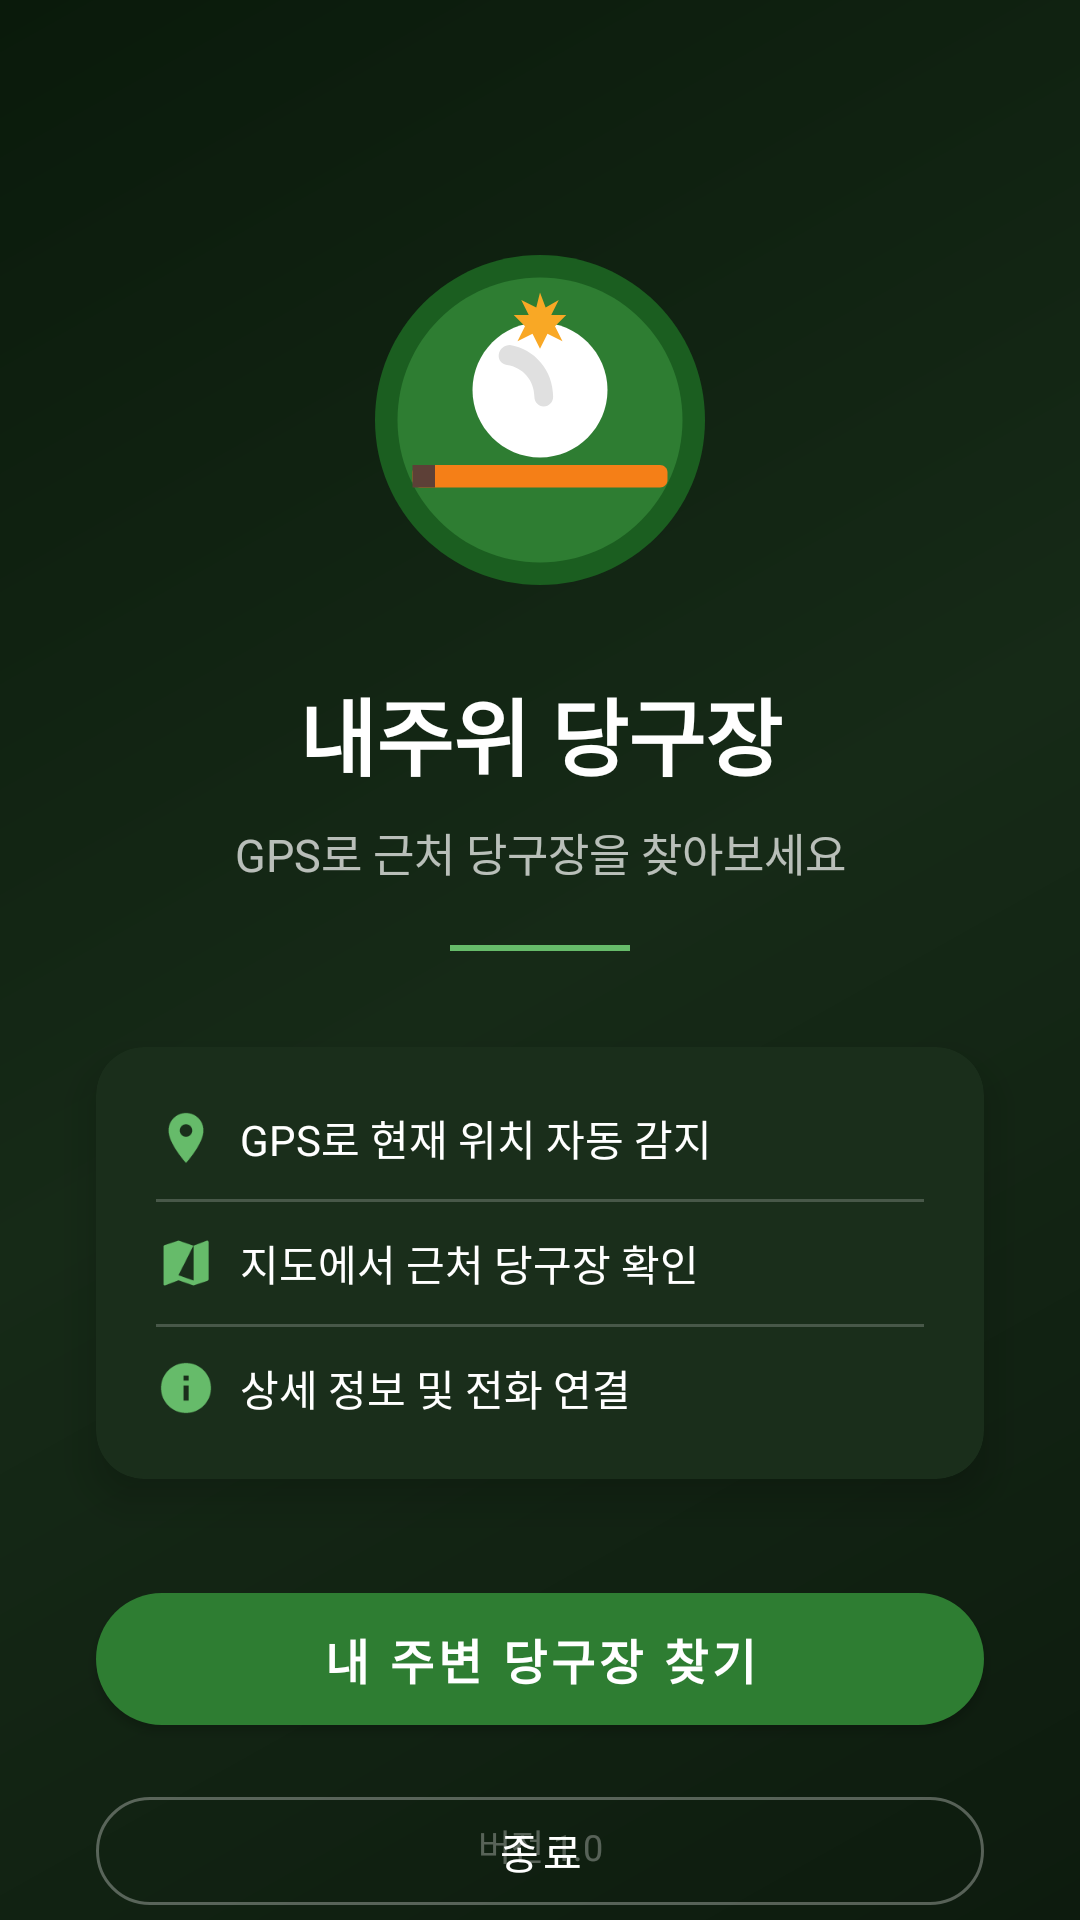

Icons on this 1080 x 1920 Android screen, each with the point to tap as (x,y):
billiard marker: (540,420)
